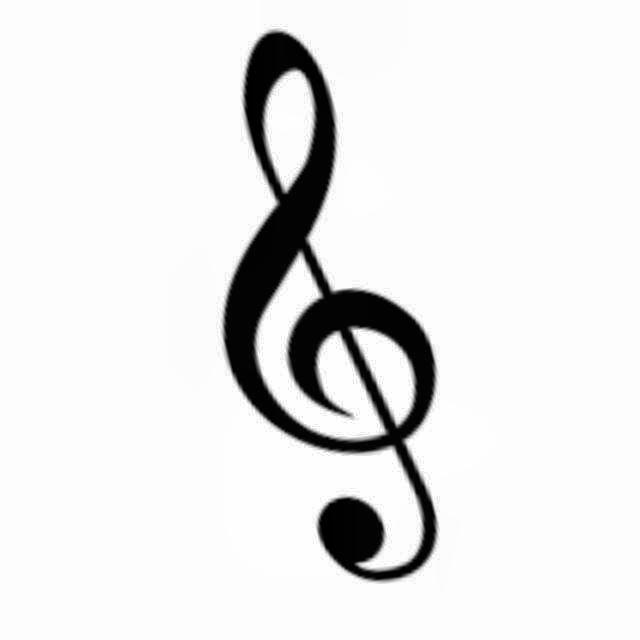Treble-clef: (180, 25, 496, 595)
